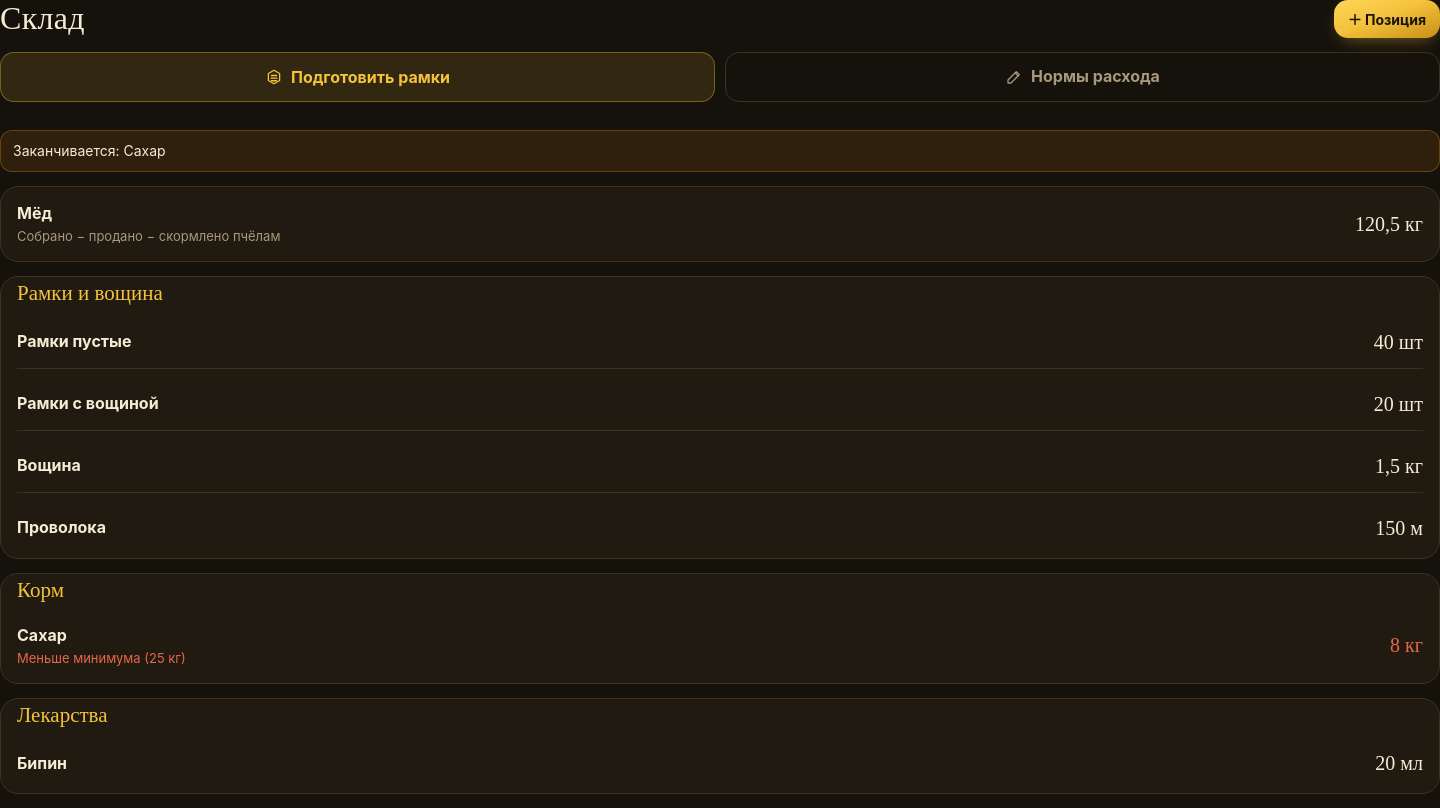
Test: Warehouse screen › shows sections, honey, the low item and prepares frames with the calculation
Check: the heading "Рамки и вощина" is shown, box 17,281 -> 163,305
Check: the heading "Лекарства" is shown, box 17,703 -> 108,727
Click the button "Подготовить рамки".
click(358, 77)  # box 0,52 -> 715,102
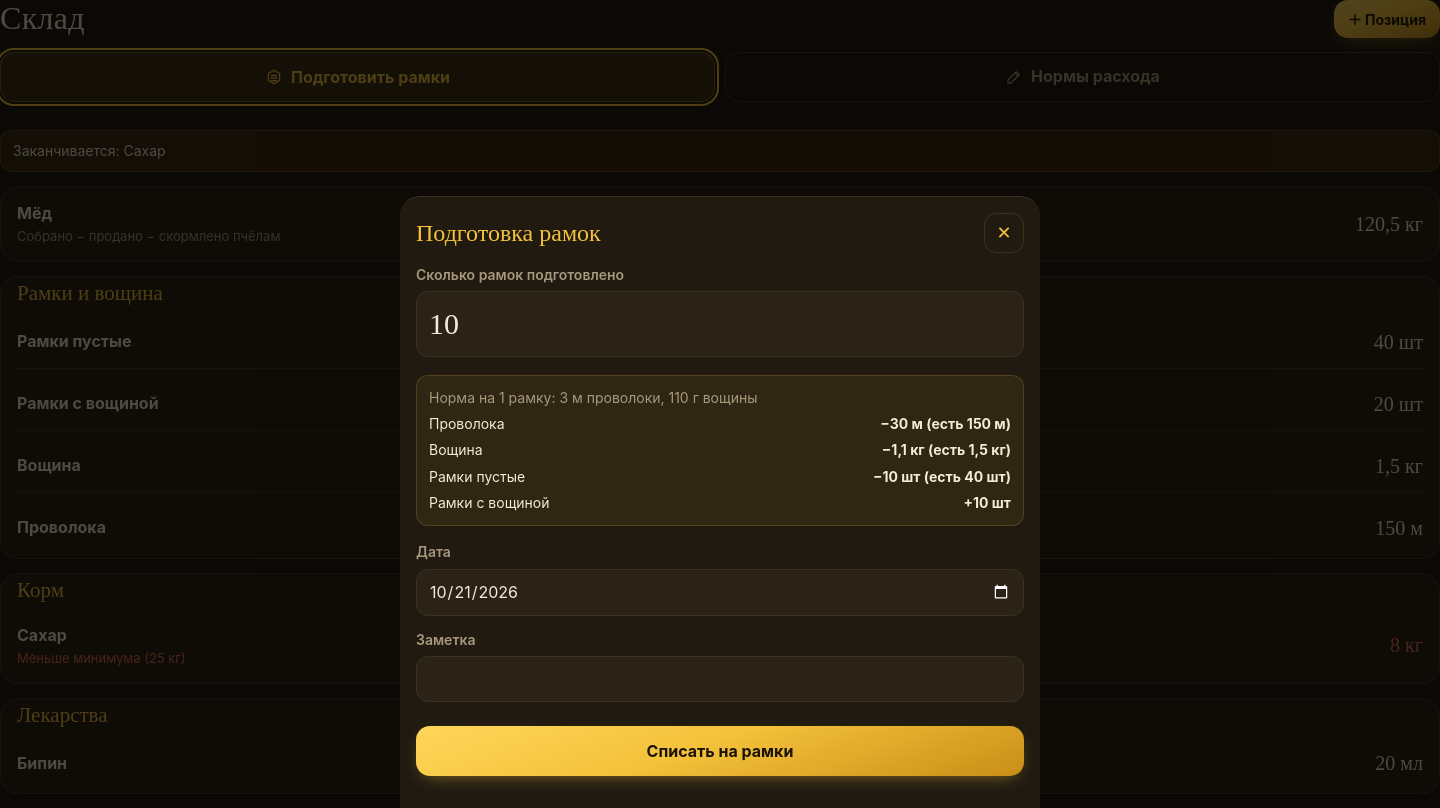
Clear the field labelled "Сколько рамок подготовлено" at (720, 324), box 416,291 -> 1024,357
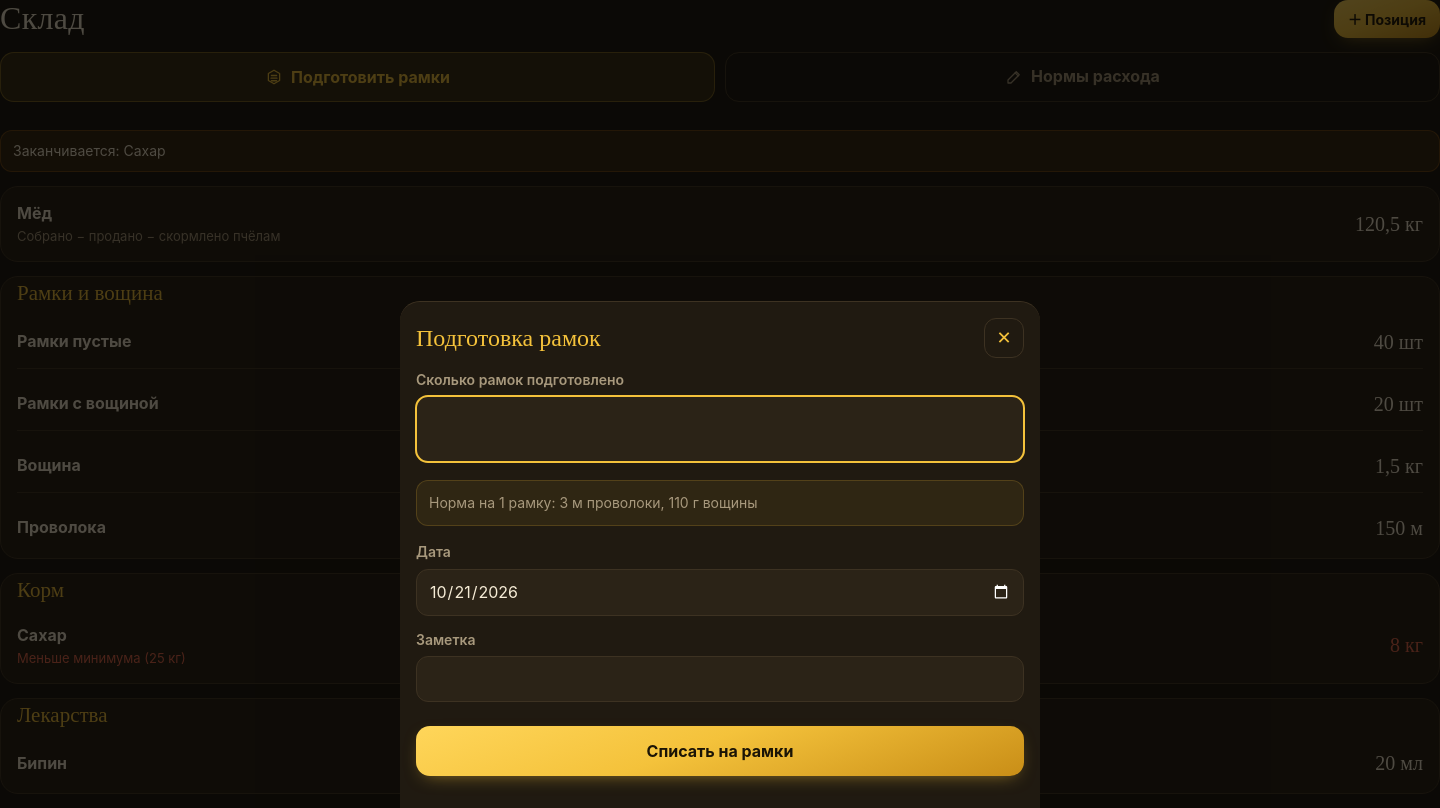
Type "20" into the field labelled "Сколько рамок подготовлено".
click(720, 429); type("20")  # box 416,396 -> 1024,462
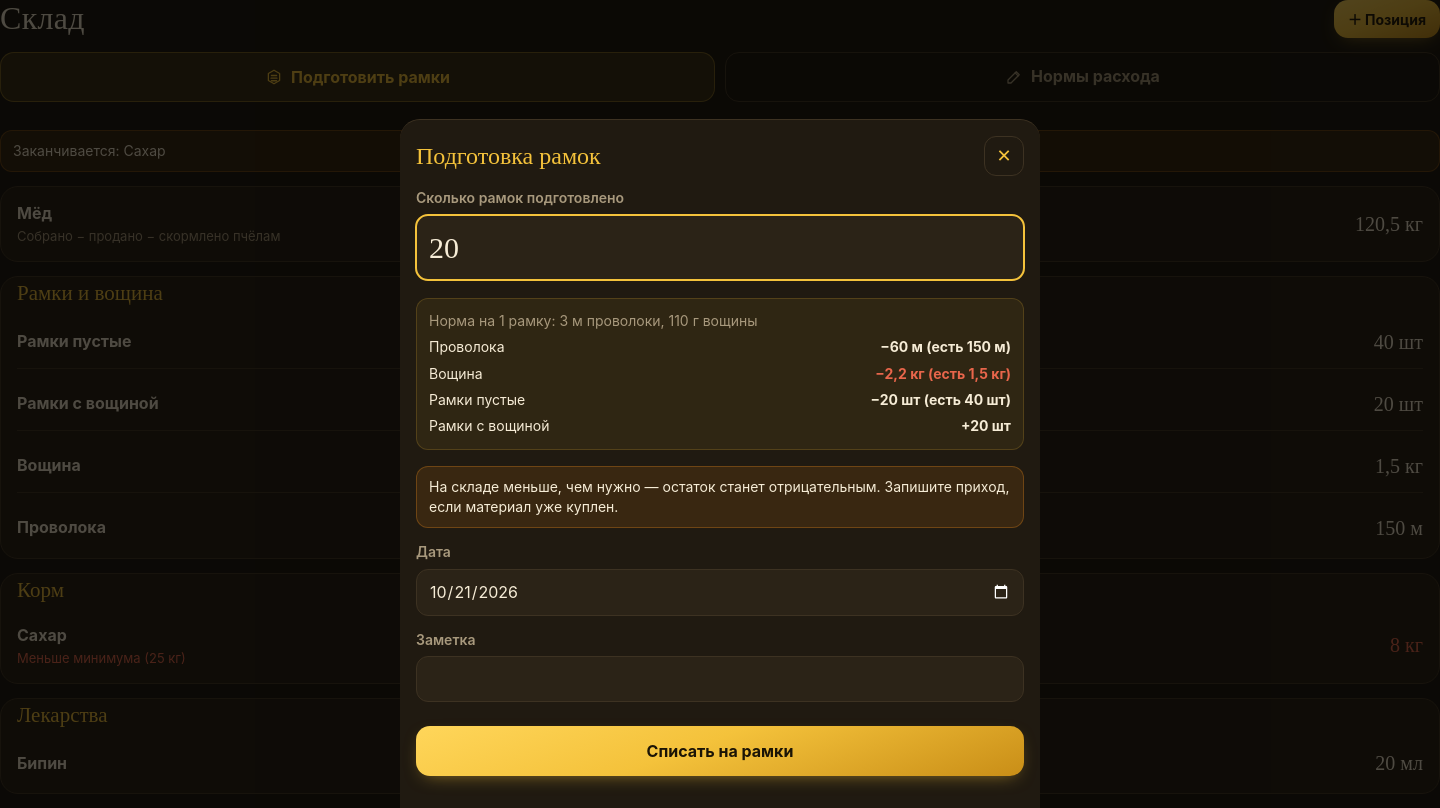
Check: the text "−60 м (есть 150 м)" is shown, box 880,337 -> 1011,358
Check: the text "−2,2 кг (есть 1,5 кг)" is shown, box 875,364 -> 1011,384
Check: the text "+20 шт" is shown, box 961,416 -> 1011,437
Click the button "Списать на рамки".
click(720, 751)  # box 416,726 -> 1024,776
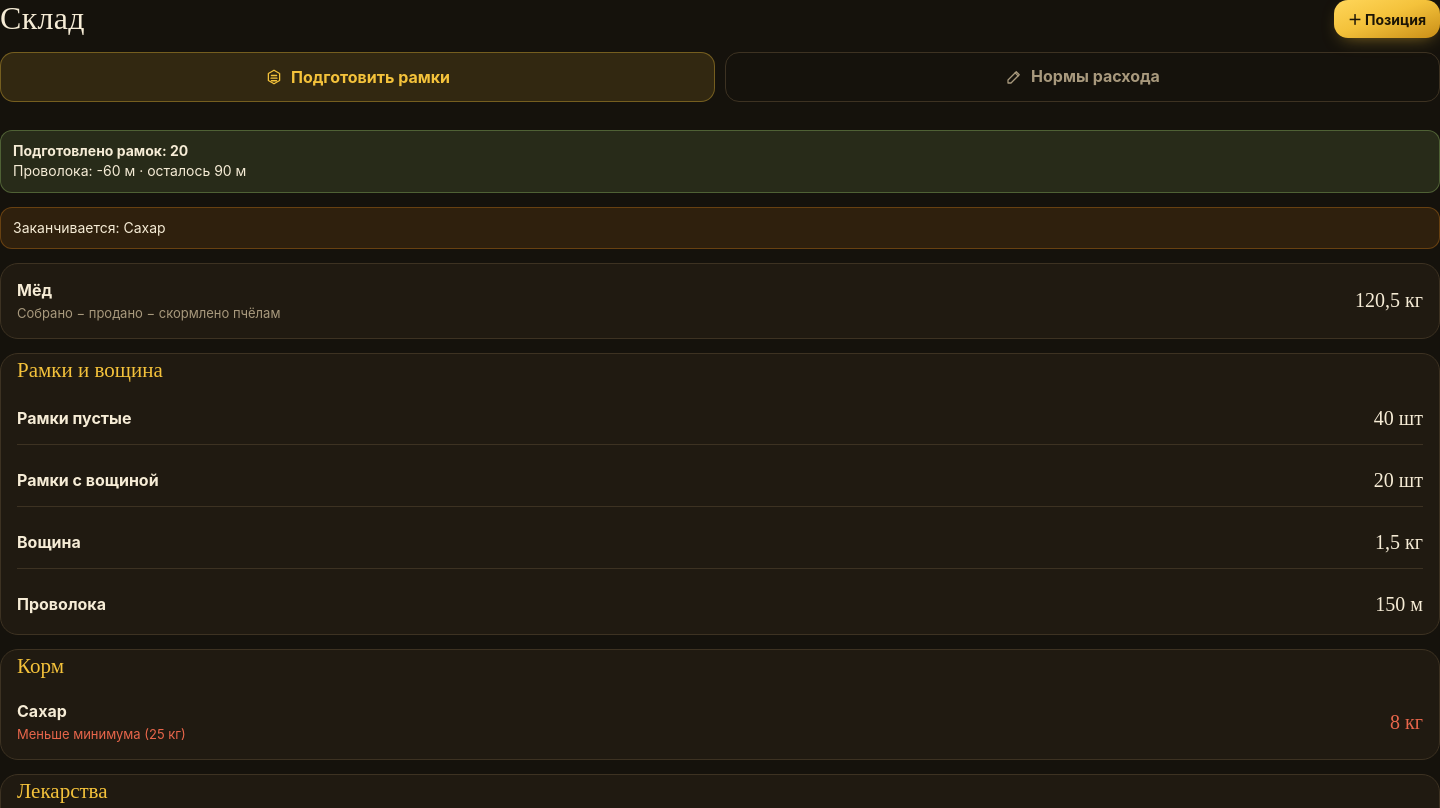
Check: the text "Подготовлено рамок: 20" is shown, box 13,142 -> 188,159
